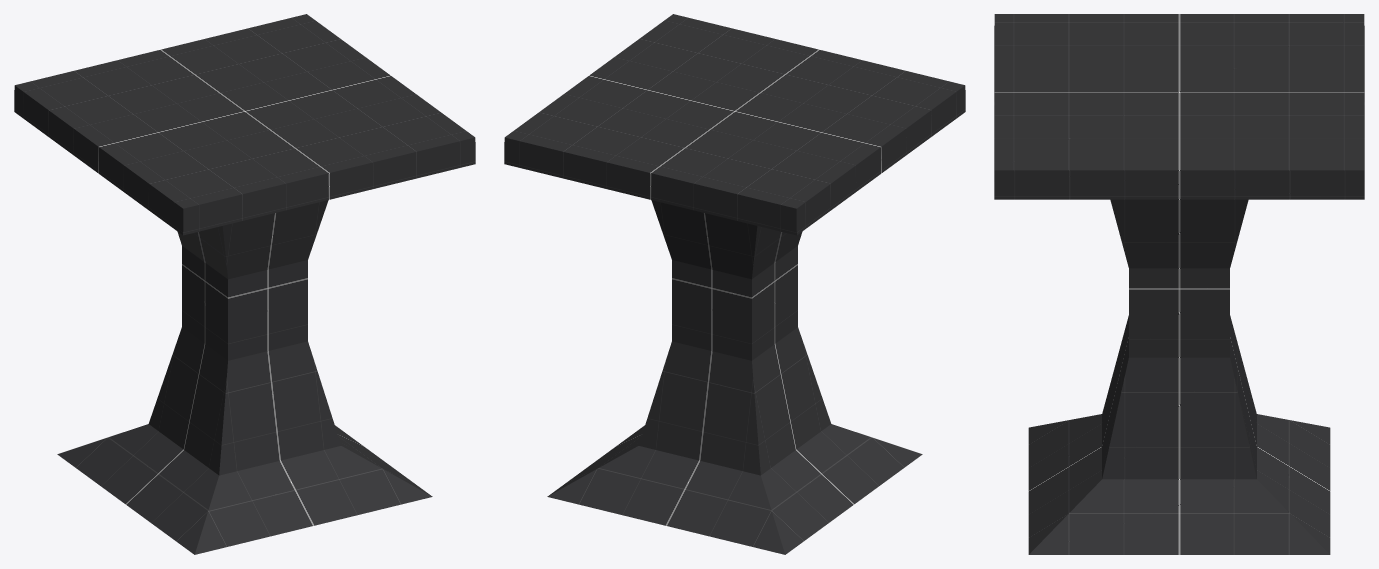
File: Piller.dae
3 views of the same model, side by side, from view 1: azimuth 30°, elevation 25°; view 2: azimuth 150°, elevation 25°; view 3: azimuth 270°, elevation 25° (orthographic). The views are drawn at different scales.
Visible parts, largest first — view 1: Cube; view 2: Cube; view 3: Cube.
Part boxes in pixels (x1=…): Cube: x1=14, y1=14, x2=475, y2=554; Cube: x1=504, y1=14, x2=965, y2=554; Cube: x1=994, y1=14, x2=1364, y2=554.
Size of the model in its own units: 3.45 by 3.45 by 4.1.
